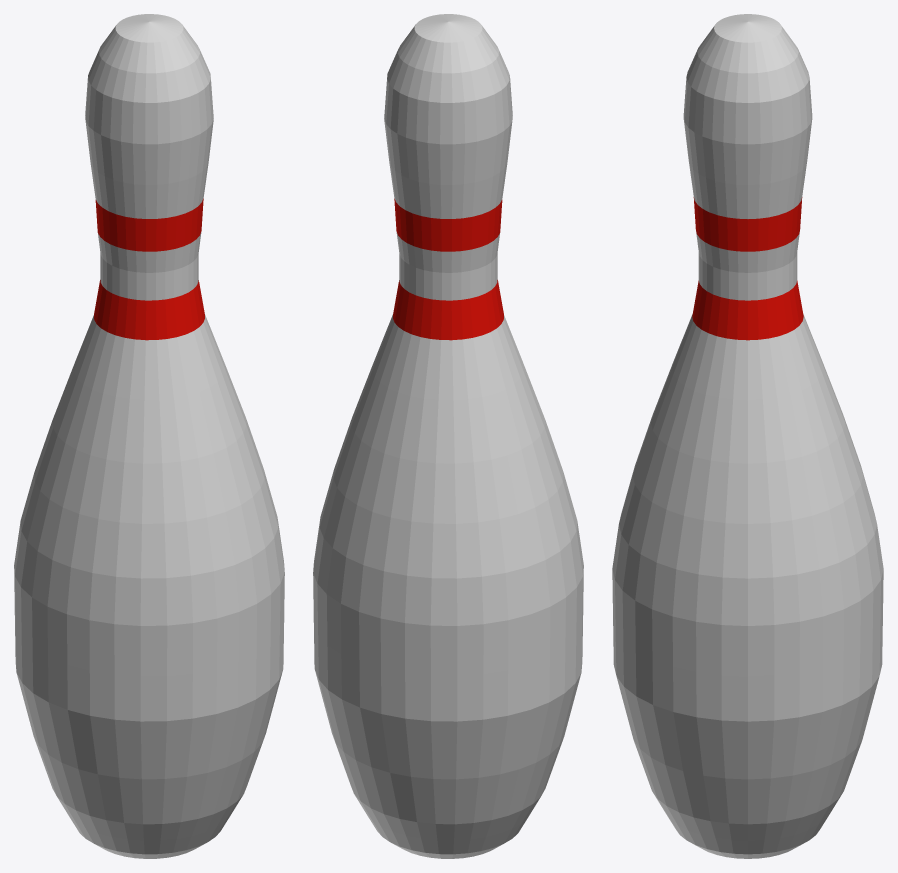
The model's file is bowlingPin.fbx.
3 renders of one model, left to right at view 1: azimuth 30°, elevation 25°; view 2: azimuth 150°, elevation 25°; view 3: azimuth 270°, elevation 25°, orthographic.
Parts seen in each view (by area): view 1: bowlingpin; view 2: bowlingpin; view 3: bowlingpin.
Boxes of the visible parts, x1,y1,x2,y2 form: bowlingpin: (14,14,284,858); bowlingpin: (313,14,583,858); bowlingpin: (612,14,883,858).
Bounding box in the file's own units: 23.09 × 77.17 × 23.09.
